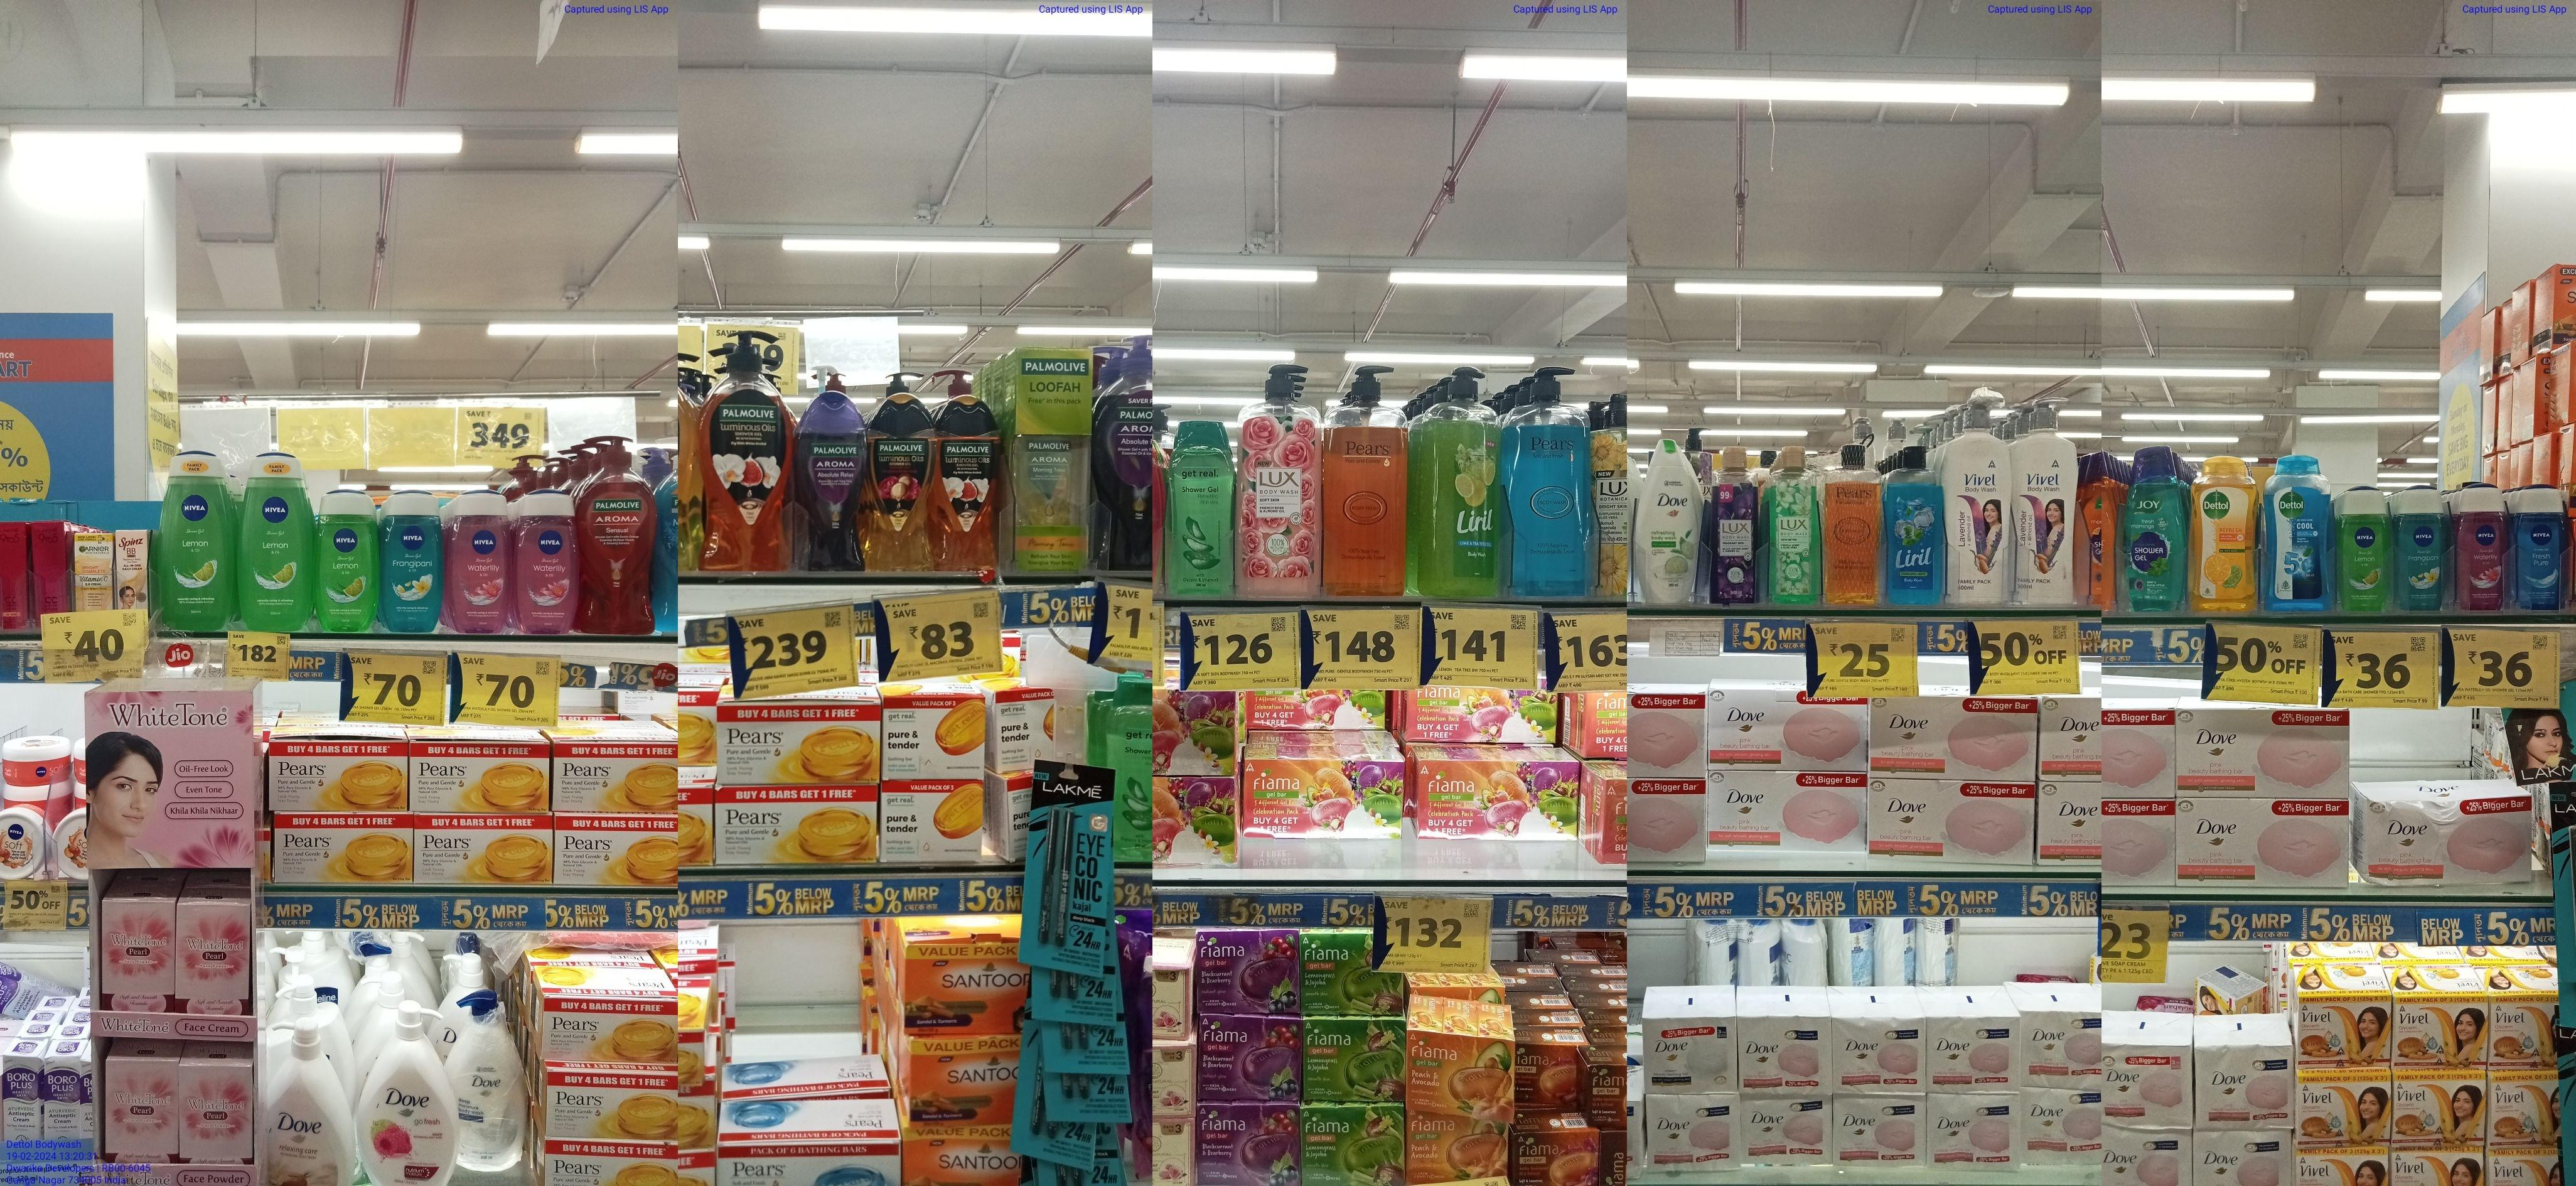Dettol_Bodywash_Cool: (2261, 455, 2331, 613)
Dettol_Bodywash_Refresh: (2188, 457, 2261, 614)
Dove_Refreshing_Body_Wash_250ML: (1638, 439, 1700, 606)
Joy_Shower_Gel_Mint_and_Eucalyptus_250ML: (2124, 447, 2182, 613)
Liril_Cooling_Mint_Body_Wash_250ML: (1884, 444, 1945, 606)
Lux_Black_Orchid_Scent_and_Juniper_Oil_Body_Wash_245ML: (1712, 447, 1759, 603)
Lux_Body_Wash_Skin_Detox_Freesia_Scent_and_Alove_Vera_245ML: (1766, 448, 1820, 604)
Nivea_Shower_Gel_Frangipani_and_Oil_250ML: (383, 494, 439, 641), (2392, 486, 2449, 609)
Nivea_Shower_Gel_Lemon_and_Oil_250ML: (153, 452, 235, 632), (240, 457, 309, 629), (314, 493, 379, 629), (2334, 486, 2390, 611)
Nivea_Shower_Gel_Waterlily_and_Oil_250ML: (513, 490, 577, 631), (447, 496, 506, 642), (2453, 486, 2507, 609)
Palmolive_Aroma_Relax_250ML: (793, 393, 866, 570)
Palmolive_Luminous_Oils_With_White_Orchid_Shower_Gel_250ML: (936, 396, 997, 567)
